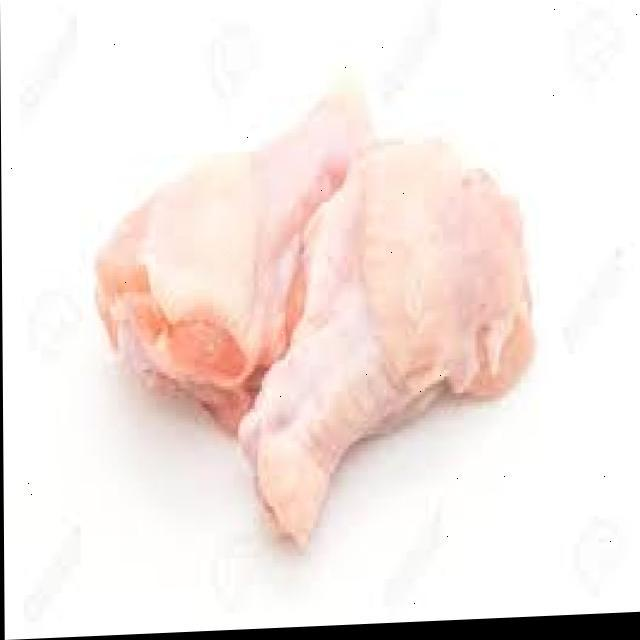leg: (238, 144, 524, 534), (88, 80, 366, 394)
